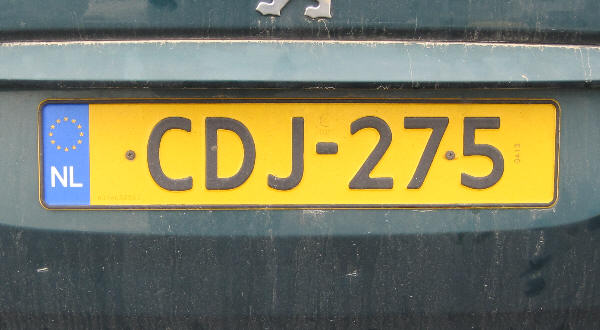license_plate: (39, 99, 562, 212)
